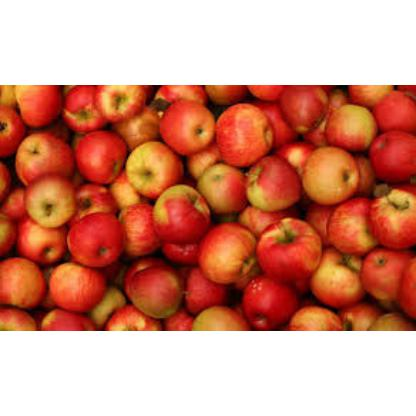apple: (211, 103, 273, 169), (260, 215, 318, 269), (200, 223, 260, 275), (304, 144, 362, 196), (154, 184, 214, 234), (249, 150, 301, 206), (165, 95, 219, 147), (132, 140, 188, 190), (328, 191, 380, 243), (242, 274, 297, 322), (16, 173, 72, 220), (12, 133, 70, 177), (324, 100, 372, 150), (68, 212, 122, 256), (50, 262, 104, 306), (131, 269, 187, 311), (81, 130, 130, 178), (2, 256, 43, 302), (14, 84, 60, 124)
